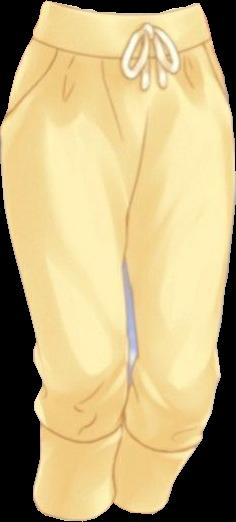Hemline: (33, 500, 115, 521), (111, 501, 170, 517)
Pantleg: (0, 2, 152, 519), (111, 3, 234, 514)
Waistline: (31, 35, 212, 61), (42, 0, 199, 21), (121, 424, 199, 457), (38, 420, 129, 443)
